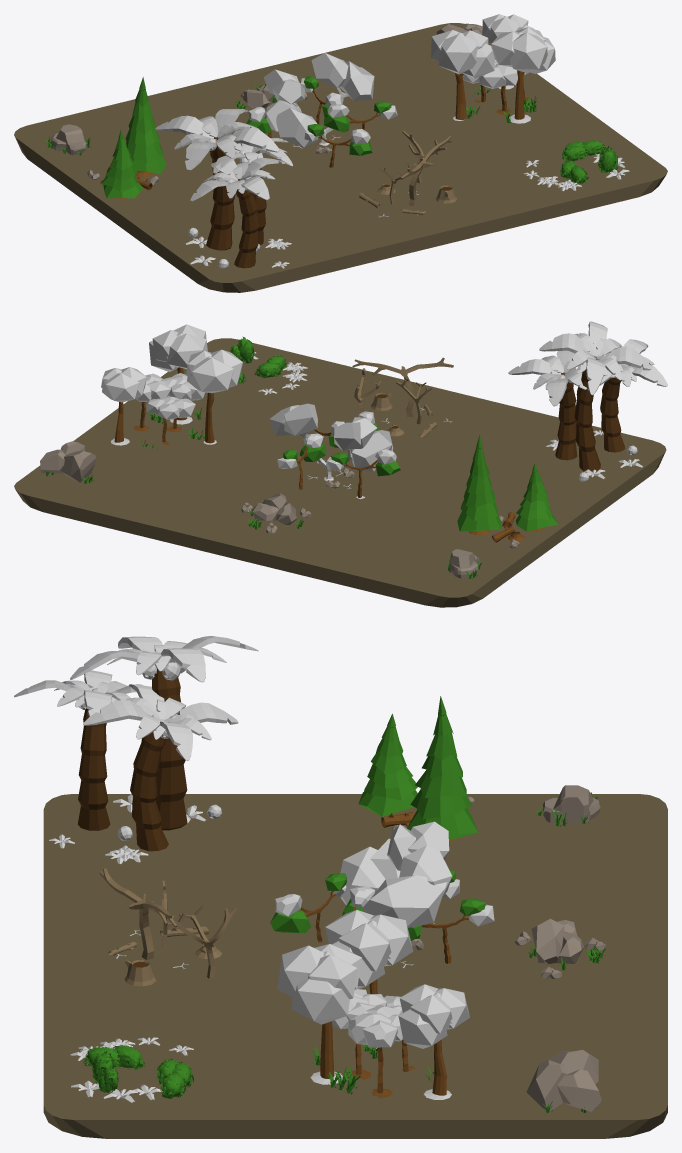
The model's file is arbres.obj.
3 renders of one model, top to bottom at view 1: azimuth 30°, elevation 25°; view 2: azimuth 150°, elevation 25°; view 3: azimuth 270°, elevation 25°, orthographic. The views are drawn at different scales.
Visible parts, largest first — view 1: SOL, arbre3.1, palm1.002, arbre2, sapin1, palm1, arbre2.002, buisson, arbre2.1, palm1.001, arbre3, rochetype2 (+7 smaller); view 2: SOL, arbre3.1, palm1.002, sapin1, arbre2, palm1.001, arbre3, palm1, rochetype2, rochetype3, arbre2.1, arbre2.002 (+7 smaller); view 3: SOL, arbre3.1, arbre2, sapin1, palm1.001, palm1.002, palm1, arbre3, rochetype3, arbre2.002, buisson, rochetype2 (+8 smaller).
Boxes of the visible parts, bbox=[...] form: SOL: bbox=[14, 23, 667, 292]; arbre3.1: bbox=[431, 14, 555, 123]; palm1.002: bbox=[155, 109, 279, 250]; arbre2: bbox=[263, 53, 425, 217]; sapin1: bbox=[102, 77, 166, 198]; palm1: bbox=[190, 157, 285, 268]; arbre2.002: bbox=[301, 76, 372, 167]; buisson: bbox=[560, 140, 617, 183]; arbre2.1: bbox=[246, 95, 397, 137]; palm1.001: bbox=[188, 138, 292, 268]; arbre3: bbox=[462, 59, 530, 115]; rochetype2: bbox=[87, 84, 330, 186]; SOL: bbox=[14, 338, 666, 607]; arbre3.1: bbox=[101, 324, 242, 445]; palm1.002: bbox=[539, 321, 651, 471]; sapin1: bbox=[457, 434, 558, 535]; arbre2: bbox=[269, 403, 452, 489]; palm1.001: bbox=[508, 350, 637, 481]; arbre3: bbox=[133, 373, 204, 444]; palm1: bbox=[588, 339, 667, 452]; rochetype2: bbox=[241, 468, 519, 548]; rochetype3: bbox=[40, 441, 96, 482]; arbre2.1: bbox=[314, 421, 400, 499]; arbre2.002: bbox=[277, 411, 380, 489]; SOL: bbox=[43, 794, 667, 1138]; arbre3.1: bbox=[277, 910, 469, 1099]; arbre2: bbox=[116, 821, 452, 969]; sapin1: bbox=[358, 696, 478, 842]; palm1.001: bbox=[83, 684, 238, 851]; palm1.002: bbox=[70, 636, 258, 830]; palm1: bbox=[14, 670, 143, 830]; arbre3: bbox=[332, 989, 416, 1098]; rochetype3: bbox=[526, 1050, 601, 1111]; arbre2.002: bbox=[270, 873, 494, 963]; buisson: bbox=[83, 1045, 193, 1098]; rochetype2: bbox=[392, 796, 605, 978].
Size of the model in its own units: 55.66 by 16.14 by 46.11.
